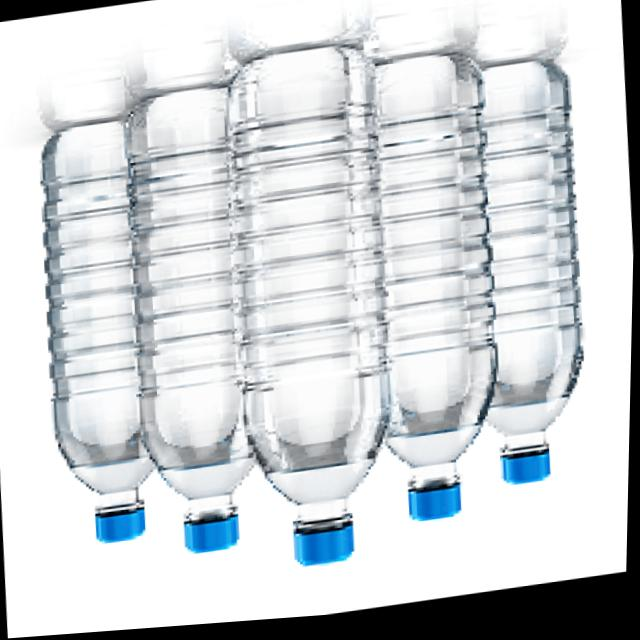plastic_water_bottles: (220, 29, 407, 584), (117, 72, 268, 569), (363, 46, 514, 540), (466, 44, 616, 515), (31, 116, 159, 558)
